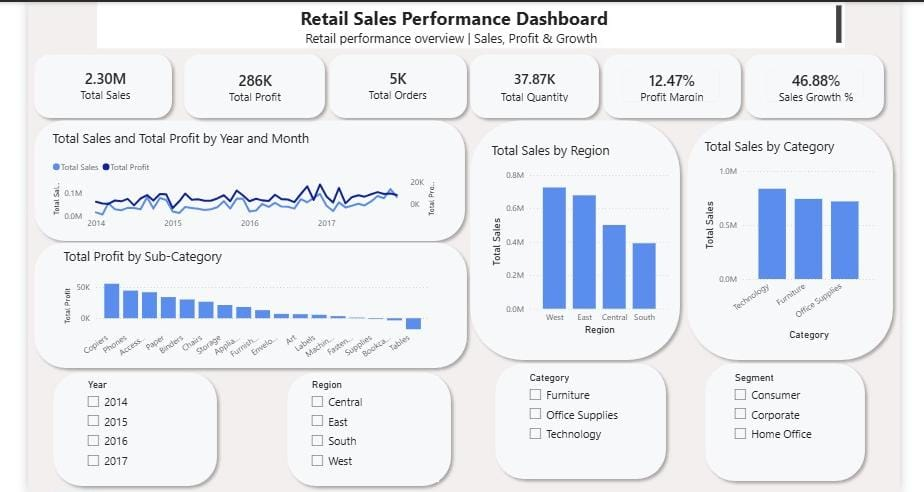

What the dashboard file says about the page in this screenshot:
{"tool":"powerbi","page":{"name":"Page 1","canvas":[1280,720],"ordinal":0},"visuals":[{"type":"shape","box":[0,67.6,220.4,111.7],"z":0},{"type":"shape","box":[433.5,67.6,220.4,111.7],"z":1000},{"type":"shape","box":[640.7,67.6,207.2,111.7],"z":2000},{"type":"shape","box":[836.1,67.6,220.4,111.7],"z":3000},{"type":"shape","box":[1044.7,67.6,221.9,111.7],"z":4000},{"type":"shape","box":[0,164.6,650.9,195.4],"z":5000},{"type":"shape","box":[959.5,164.6,320.3,370.3],"z":6000},{"type":"shape","box":[0,343.8,653.9,202.8],"z":7000},{"type":"shape","box":[640.7,164.6,326.2,370.3],"z":8000},{"type":"shape","box":[27.9,534.9,258.6,185.1],"z":9000},{"type":"shape","box":[371.8,534.9,258.6,185.1],"z":10000},{"type":"shape","box":[677.4,521.6,268.9,188.1],"z":11000},{"type":"shape","box":[986,521.6,252.7,191],"z":12000},{"type":"shape","box":[220.4,67.6,224.8,111.7],"z":13000},{"type":"cardVisual","fields":{"Data":["Sample - Superstore.Total Profit"]},"box":[263,86.7,141.1,77.9],"z":14000},{"type":"cardVisual","fields":{"Data":["Sample - Superstore.Total Orders"]},"box":[468.7,80.8,149.9,83.8],"z":15000},{"type":"cardVisual","fields":{"Data":["Sample - Superstore.Total Quantity"]},"box":[665.6,83.8,157.2,80.8],"z":16000},{"type":"cardVisual","fields":{"Data":["Sample - Superstore.Profit Margin"]},"box":[856.7,83.8,177.8,80.8],"z":17000},{"type":"cardVisual","fields":{"Data":["Sample - Superstore.Sales Growth Rate"]},"box":[1068.2,83.8,177.8,80.8],"z":18000},{"type":"lineChart","fields":{"Y":["Sample - Superstore.Total Sales"],"Y2":["Sample - Superstore.Total Profit"],"Category":["Sample - Superstore.Order Date.Variation.Date Hierarchy.Year","Sample - Superstore.Order Date.Variation.Date Hierarchy.Month"]},"box":[30.9,186.6,573.1,157.2],"z":19000},{"type":"clusteredColumnChart","fields":{"Category":["Sample - Superstore.Region"],"Y":["Sample - Superstore.Total Sales"]},"box":[675.9,204.2,270.4,289.5],"z":20000},{"type":"clusteredColumnChart","fields":{"Category":["Sample - Superstore.Category"],"Y":["Sample - Superstore.Total Sales"]},"box":[988.9,198.4,260.1,302.7],"z":21000},{"type":"clusteredColumnChart","fields":{"Category":["Sample - Superstore.Sub-Category"],"Y":["Sample - Superstore.Total Profit"]},"box":[47,360,546.6,174.9],"z":22000},{"type":"slicer","fields":{"Values":["Sample - Superstore.Region"]},"box":[404.1,549.6,199.8,155.8],"z":23000},{"type":"slicer","fields":{"Values":["Sample - Superstore.Category"]},"box":[724.4,539.3,174.9,154.3],"z":24000},{"type":"slicer","fields":{"Values":["Sample - Superstore.Segment"]},"box":[1025.6,539.3,173.4,155.8],"z":25000},{"type":"slicer","fields":{"Values":["Sample - Superstore.Order Date.Variation.Date Hierarchy.Year"]},"box":[74.9,549.6,173.4,155.8],"z":26000},{"type":"textbox","box":[101.4,0,1099.1,67.6],"z":27000},{"type":"cardVisual","fields":{"Data":["Sample - Superstore.Total Sales"]},"box":[44.1,80.8,139.6,82.3],"z":28000}]}

Visuals, with their boxes on the page's 1280x720 design canvas (x1, y1, x2, y2). These are canvas units, not pixel positions in the 924x492 screenshot, which may show the page scaled, cropped or inside an application window:
shape: <bbox>0, 68, 220, 179</bbox>
shape: <bbox>434, 68, 654, 179</bbox>
shape: <bbox>641, 68, 848, 179</bbox>
shape: <bbox>836, 68, 1056, 179</bbox>
shape: <bbox>1045, 68, 1267, 179</bbox>
shape: <bbox>0, 165, 651, 360</bbox>
shape: <bbox>960, 165, 1280, 535</bbox>
shape: <bbox>0, 344, 654, 547</bbox>
shape: <bbox>641, 165, 967, 535</bbox>
shape: <bbox>28, 535, 286, 720</bbox>
shape: <bbox>372, 535, 630, 720</bbox>
shape: <bbox>677, 522, 946, 710</bbox>
shape: <bbox>986, 522, 1239, 713</bbox>
shape: <bbox>220, 68, 445, 179</bbox>
cardVisual - Sample - Superstore.Total Profit: <bbox>263, 87, 404, 165</bbox>
cardVisual - Sample - Superstore.Total Orders: <bbox>469, 81, 619, 165</bbox>
cardVisual - Sample - Superstore.Total Quantity: <bbox>666, 84, 823, 165</bbox>
cardVisual - Sample - Superstore.Profit Margin: <bbox>857, 84, 1034, 165</bbox>
cardVisual - Sample - Superstore.Sales Growth Rate: <bbox>1068, 84, 1246, 165</bbox>
lineChart - Sample - Superstore.Total Sales x Sample - Superstore.Total Profit: <bbox>31, 187, 604, 344</bbox>
clusteredColumnChart - Sample - Superstore.Region x Sample - Superstore.Total Sales: <bbox>676, 204, 946, 494</bbox>
clusteredColumnChart - Sample - Superstore.Category x Sample - Superstore.Total Sales: <bbox>989, 198, 1249, 501</bbox>
clusteredColumnChart - Sample - Superstore.Sub-Category x Sample - Superstore.Total Profit: <bbox>47, 360, 594, 535</bbox>
slicer - Sample - Superstore.Region: <bbox>404, 550, 604, 705</bbox>
slicer - Sample - Superstore.Category: <bbox>724, 539, 899, 694</bbox>
slicer - Sample - Superstore.Segment: <bbox>1026, 539, 1199, 695</bbox>
slicer - Sample - Superstore.Order Date.Variation.Date Hierarchy.Year: <bbox>75, 550, 248, 705</bbox>
textbox: <bbox>101, 0, 1200, 68</bbox>
cardVisual - Sample - Superstore.Total Sales: <bbox>44, 81, 184, 163</bbox>
